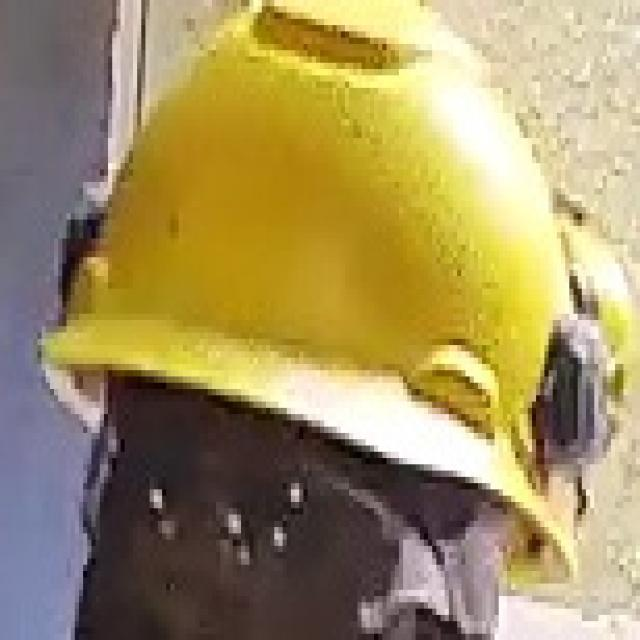yellow helmet: (38, 1, 608, 592)
